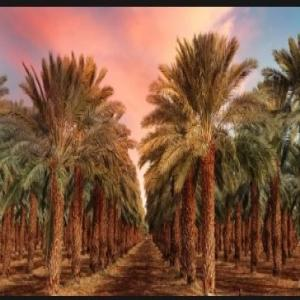palm tree: (0, 48, 139, 293), (138, 30, 259, 294)
